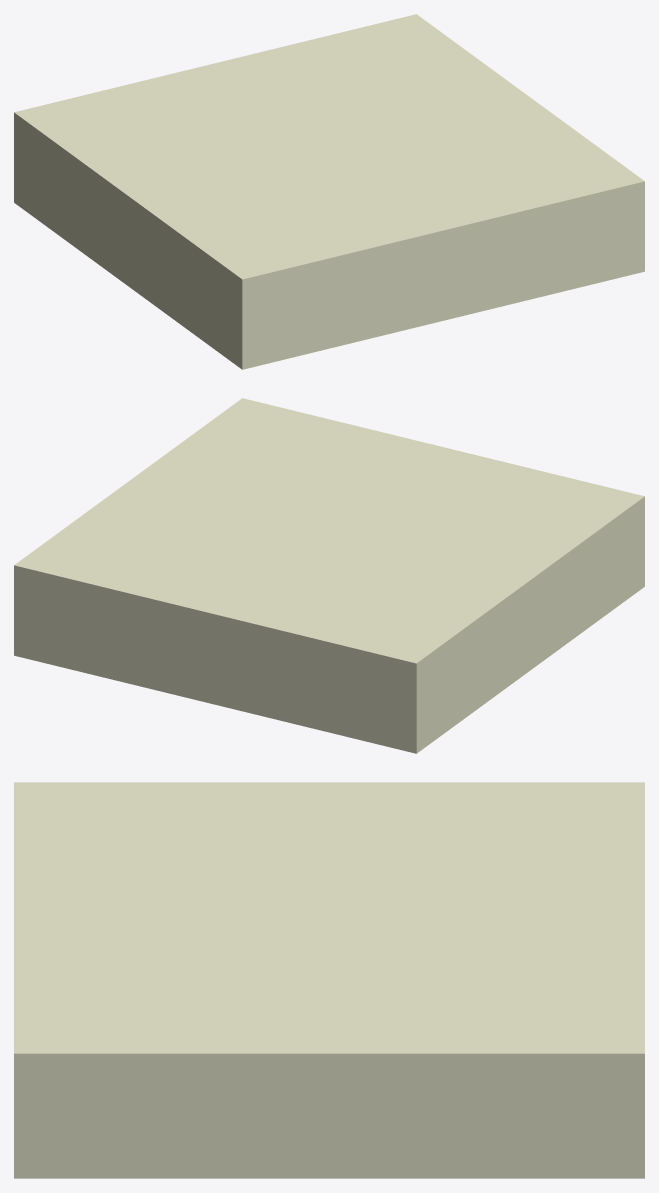
Rendered from structure_genericroom.fbx.
The picture shows the model from 3 angles, top to bottom: view 1: azimuth 30°, elevation 25°; view 2: azimuth 150°, elevation 25°; view 3: azimuth 270°, elevation 25°; orthographic projection. The views are drawn at different scales.
Parts seen in each view (by area): view 1: Cube; view 2: Cube; view 3: Cube.
Part boxes in pixels (left/top/right/bottom): Cube: left=14, top=14, right=644, bottom=369; Cube: left=14, top=398, right=644, bottom=753; Cube: left=14, top=782, right=644, bottom=1178.
Bounding box in the file's own units: 12740 × 2732 × 12522.
